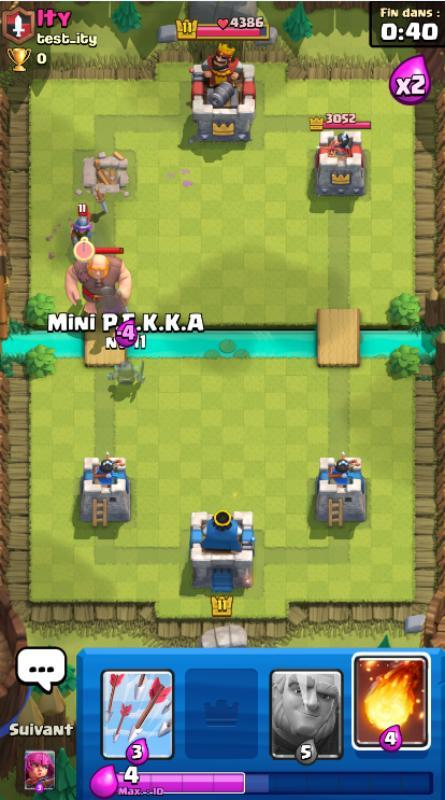geant: (65, 246, 132, 316)
mini_PEKKA: (107, 359, 148, 386)
mousquetaire: (97, 285, 126, 323), (70, 204, 93, 249)
